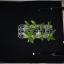leaf: (28, 36, 34, 43), (30, 20, 37, 26), (49, 30, 56, 36), (24, 21, 30, 27), (49, 36, 56, 40), (24, 31, 29, 36), (29, 30, 33, 36), (42, 32, 48, 36), (32, 36, 37, 40), (41, 26, 46, 30), (40, 30, 44, 35), (47, 26, 52, 30), (29, 27, 35, 30), (40, 22, 44, 26), (47, 36, 50, 41), (32, 33, 36, 36), (35, 27, 39, 30), (41, 36, 44, 40), (49, 21, 51, 26), (36, 36, 38, 38), (48, 22, 49, 26)
